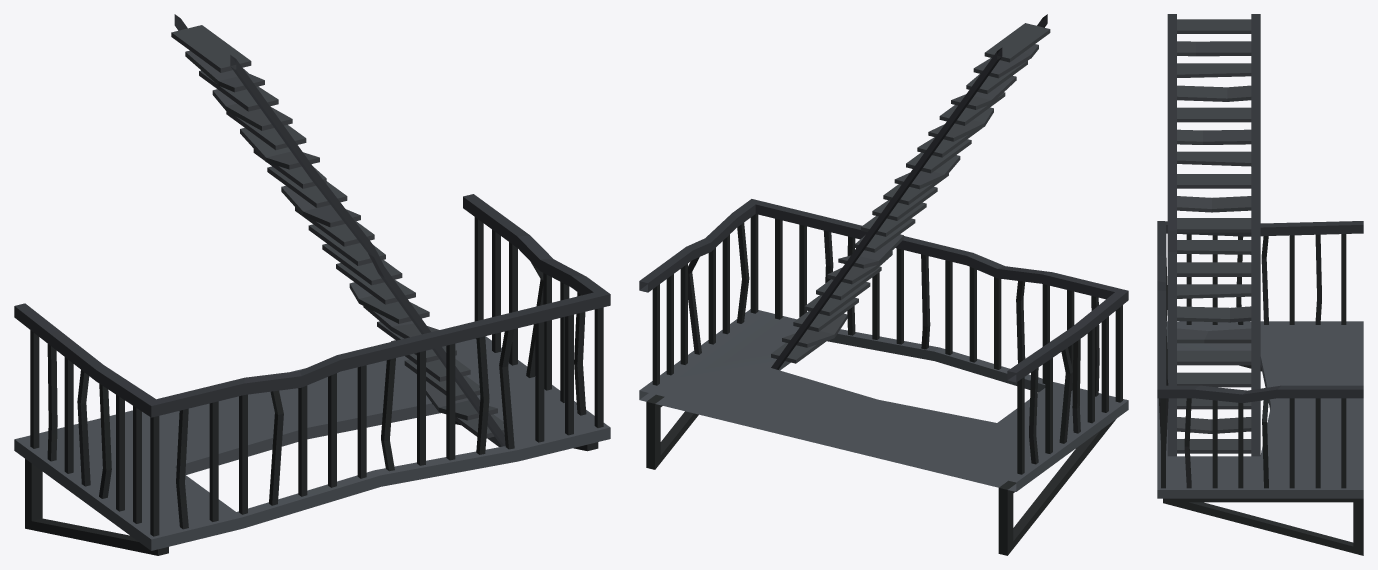
The model's file is SM_Bld_FireEscape_02.obj.
The picture shows the model from 3 angles, left to right: view 1: azimuth 30°, elevation 25°; view 2: azimuth 150°, elevation 25°; view 3: azimuth 270°, elevation 25°; orthographic projection. The views are drawn at different scales.
Parts seen in each view (by area): view 1: SM_Bld_FireEscape_02_0; view 2: SM_Bld_FireEscape_02_0; view 3: SM_Bld_FireEscape_02_0.
Part boxes in pixels (x1,y1,x2,y2): SM_Bld_FireEscape_02_0: (14,14,610,555); SM_Bld_FireEscape_02_0: (639,14,1128,555); SM_Bld_FireEscape_02_0: (1157,14,1363,555).
Bounding box in the file's own units: 3.25 × 3.61 × 1.64.
Materials: 1 (1 with a texture image).
